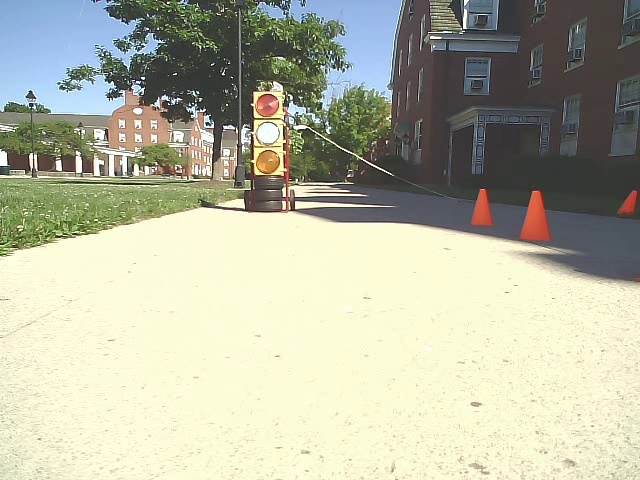green: (252, 91, 288, 176)
